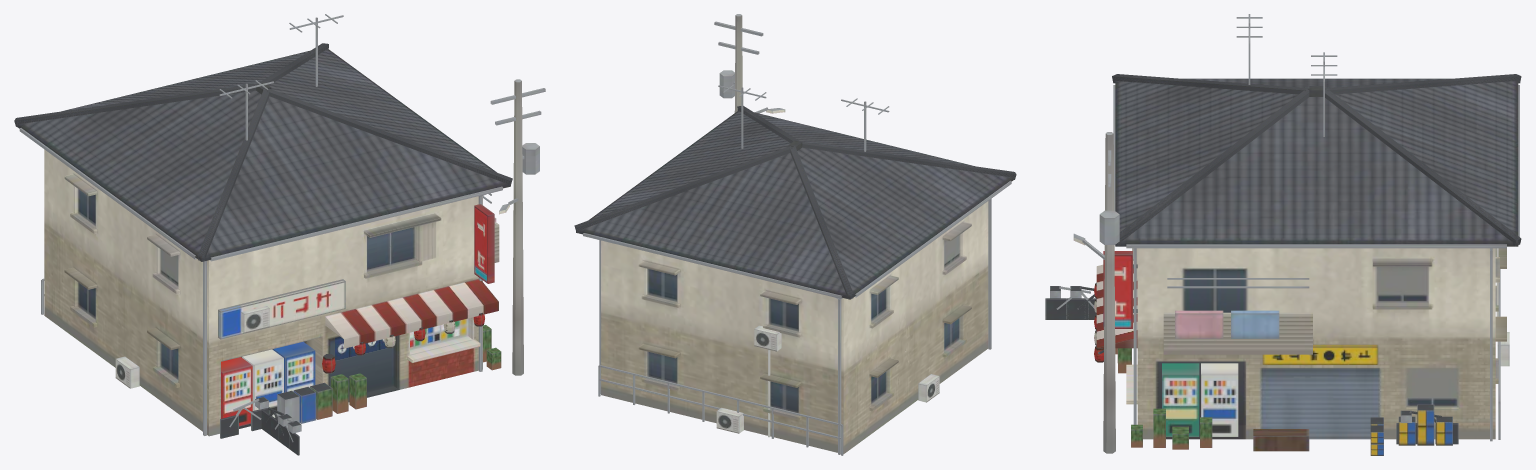
The model's file is tokyo_house_d.glb.
The picture shows the model from 3 angles, left to right: view 1: azimuth 30°, elevation 25°; view 2: azimuth 150°, elevation 25°; view 3: azimuth 270°, elevation 25°; orthographic projection. The views are drawn at different scales.
Parts seen in each view (by area): view 1: tokyo_house_d; view 2: tokyo_house_d; view 3: tokyo_house_d.
Boxes of the visible parts, x1,y1,x2,y2 form: tokyo_house_d: (14,14,545,455); tokyo_house_d: (574,14,1016,455); tokyo_house_d: (1045,14,1521,455).
Bounding box in the file's own units: 11.54 × 9.9 × 12.76.
Materials: 1 (1 with a texture image).
